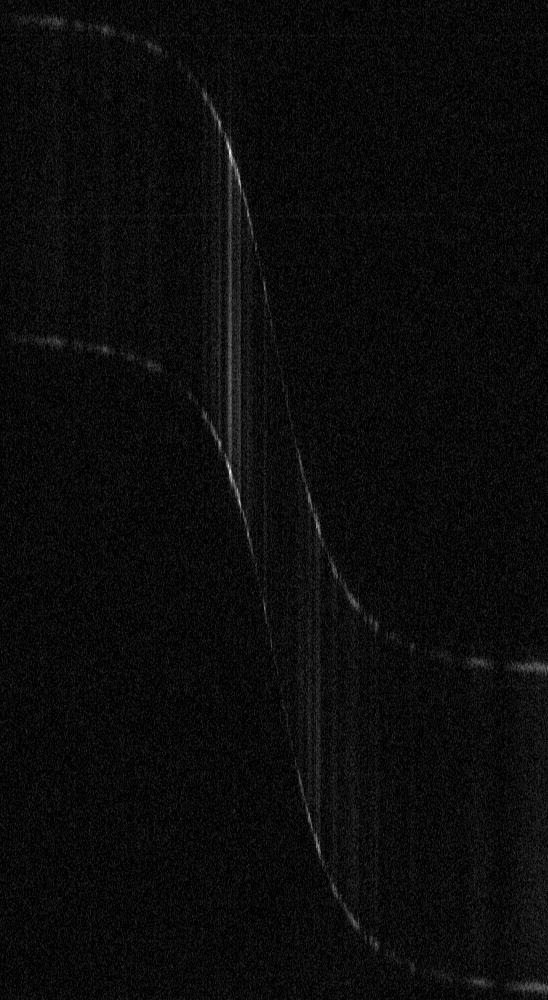signal: (0, 0, 547, 999)
